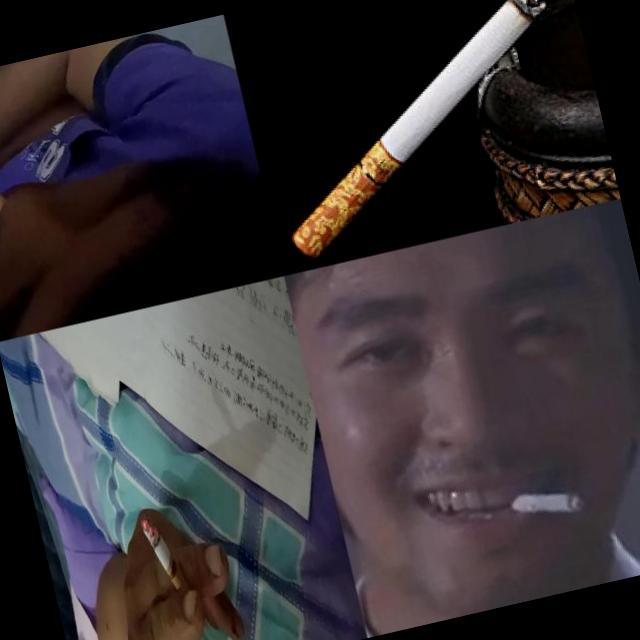cigarette: (248, 0, 591, 261), (139, 506, 208, 640), (496, 474, 587, 529), (0, 113, 31, 220)
